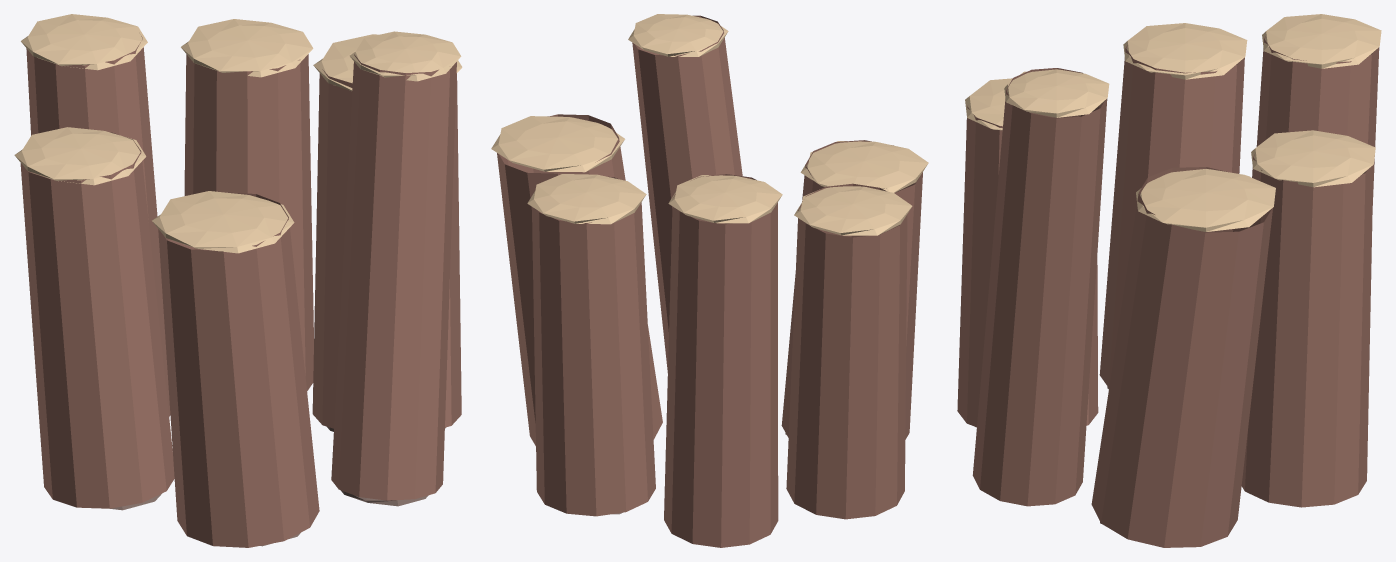
File: brazilwood.glb
3 views of the same model, side by side, from view 1: azimuth 30°, elevation 25°; view 2: azimuth 150°, elevation 25°; view 3: azimuth 270°, elevation 25° (orthographic). The views are drawn at different scales.
Visible parts, largest first — view 1: brazilwood; view 2: brazilwood; view 3: brazilwood.
Part boxes in pixels (x1,y1,x2,y2): brazilwood: [14, 14, 462, 547]; brazilwood: [491, 14, 928, 547]; brazilwood: [957, 14, 1381, 547].
Bounding box in the file's own units: 0.876 × 0.817 × 0.7514.
